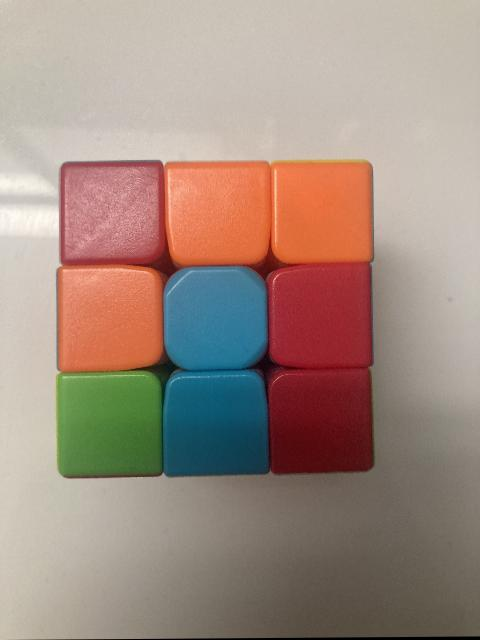Blue: (166, 273, 266, 373), (168, 378, 264, 474)
Green: (57, 374, 161, 475)
Orange: (166, 165, 268, 264), (58, 273, 158, 370), (273, 165, 370, 261)
Red: (63, 163, 164, 264), (270, 270, 370, 368), (273, 375, 373, 471)
